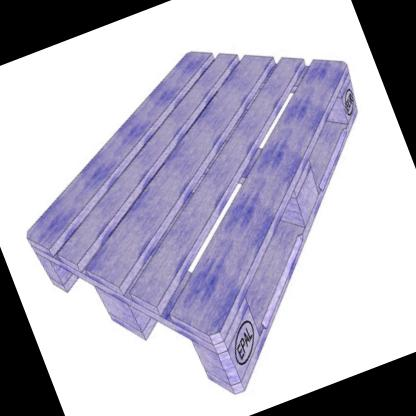BoxFace: (23, 45, 363, 400)
